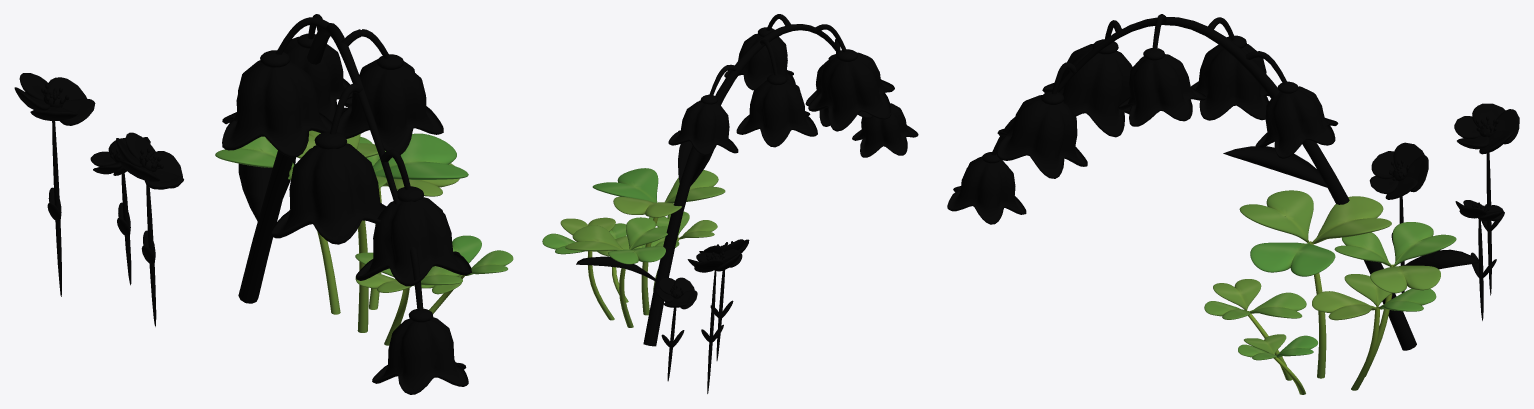
The model's file is SM_Painted_MixedBlooms.fbx.
The picture shows the model from 3 angles, left to right: view 1: azimuth 30°, elevation 25°; view 2: azimuth 150°, elevation 25°; view 3: azimuth 270°, elevation 25°; orthographic projection. The views are drawn at different scales.
Visible parts, largest first — view 1: SM_Painted_MixedBlooms; view 2: SM_Painted_MixedBlooms; view 3: SM_Painted_MixedBlooms.
Boxes of the visible parts, x1=… form: SM_Painted_MixedBlooms: x1=14, y1=14, x2=513, y2=394; SM_Painted_MixedBlooms: x1=542, y1=14, x2=918, y2=393; SM_Painted_MixedBlooms: x1=947, y1=14, x2=1519, y2=394.
Size of the model in its own units: 84.94 by 92.18 by 149.
